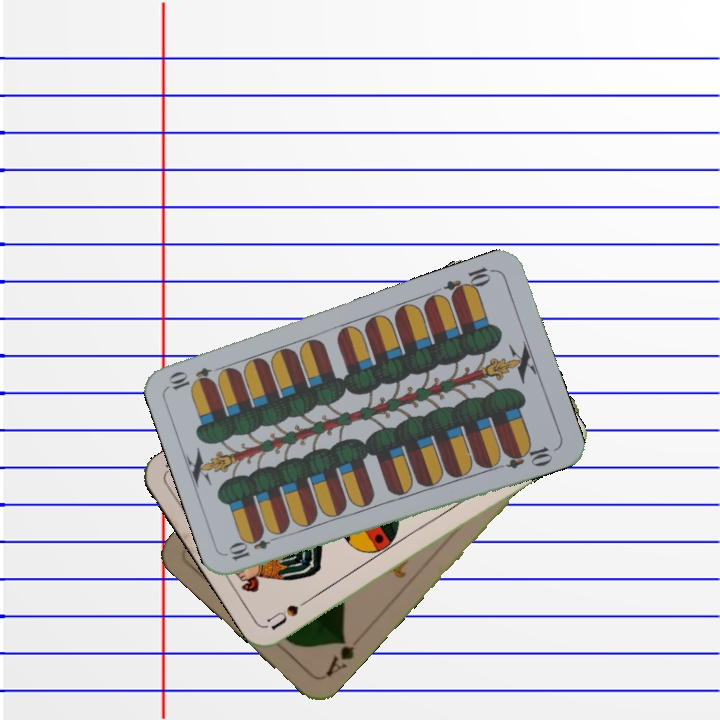E10: (440, 263, 498, 301), (225, 529, 283, 563)
GA: (321, 633, 357, 680)
SU: (263, 591, 319, 634)
